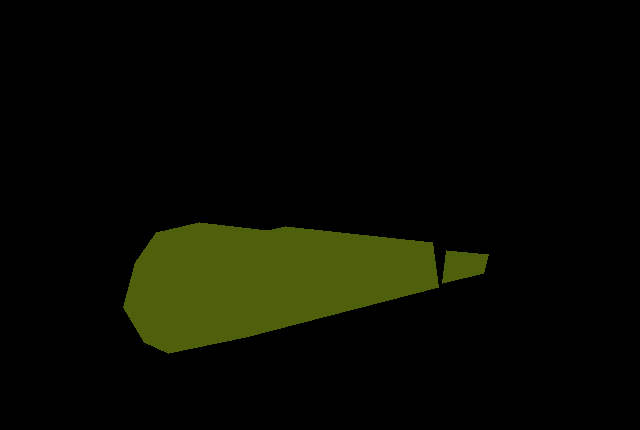Train: (123, 222, 488, 354)
